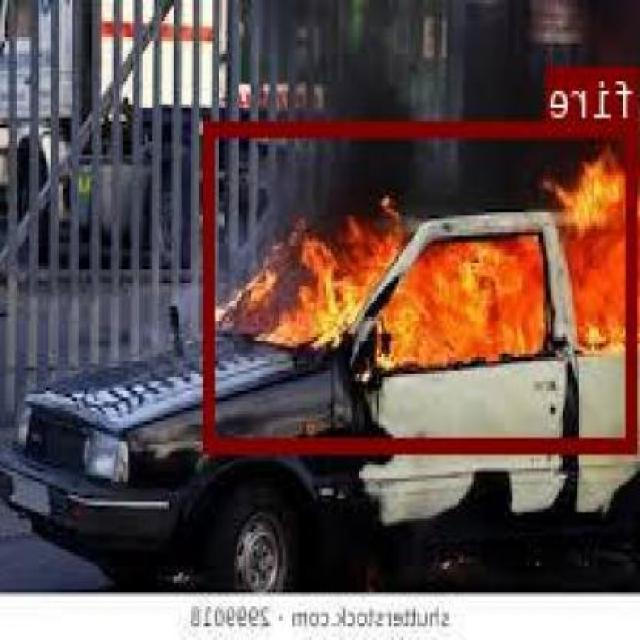Fire: (213, 138, 640, 384)
Smoke: (260, 0, 635, 258)
